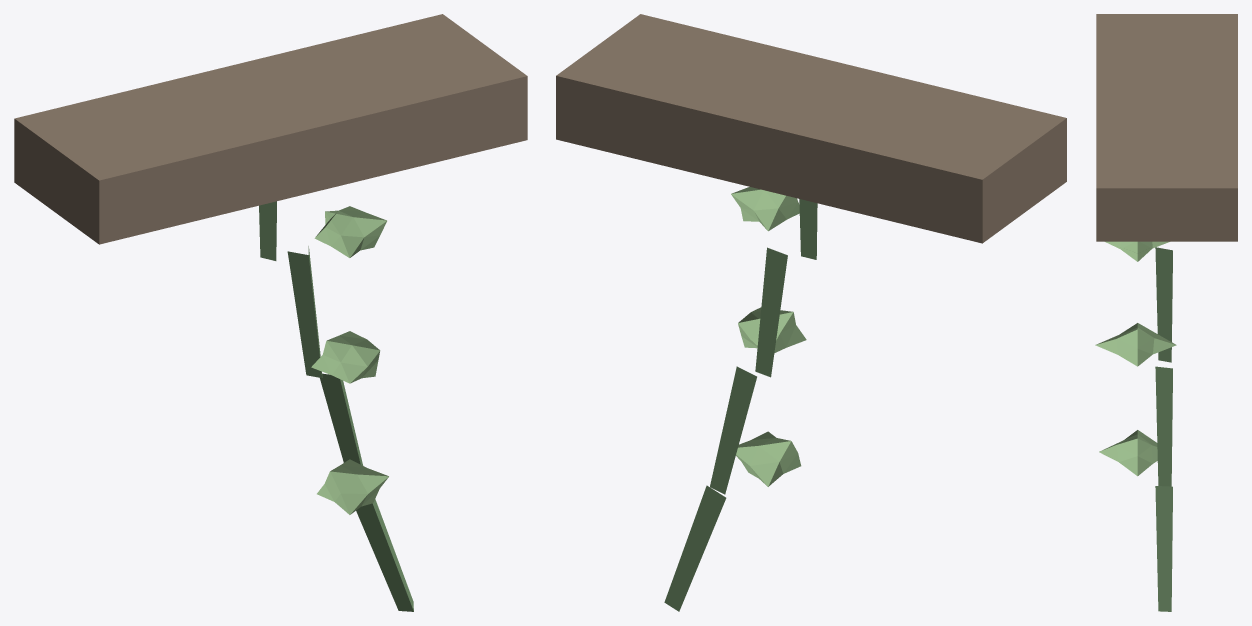
File: vine_v30.glb
The picture shows the model from 3 angles, left to right: view 1: azimuth 30°, elevation 25°; view 2: azimuth 150°, elevation 25°; view 3: azimuth 270°, elevation 25°; orthographic projection. The views are drawn at different scales.
Parts seen in each view (by area): view 1: lod0; view 2: lod0; view 3: lod0.
Boxes of the visible parts, x1,y1,x2,y2 form: lod0: (14,14,527,611); lod0: (556,14,1066,611); lod0: (1095,14,1237,611).
Size of what is drawn, in the model's own units: 0.7 by 0.8546 by 0.2425.
